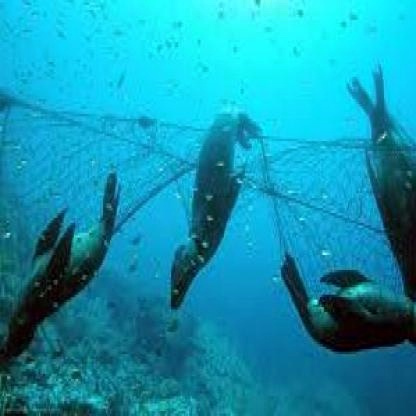net: (0, 92, 209, 272), (263, 117, 416, 301)
